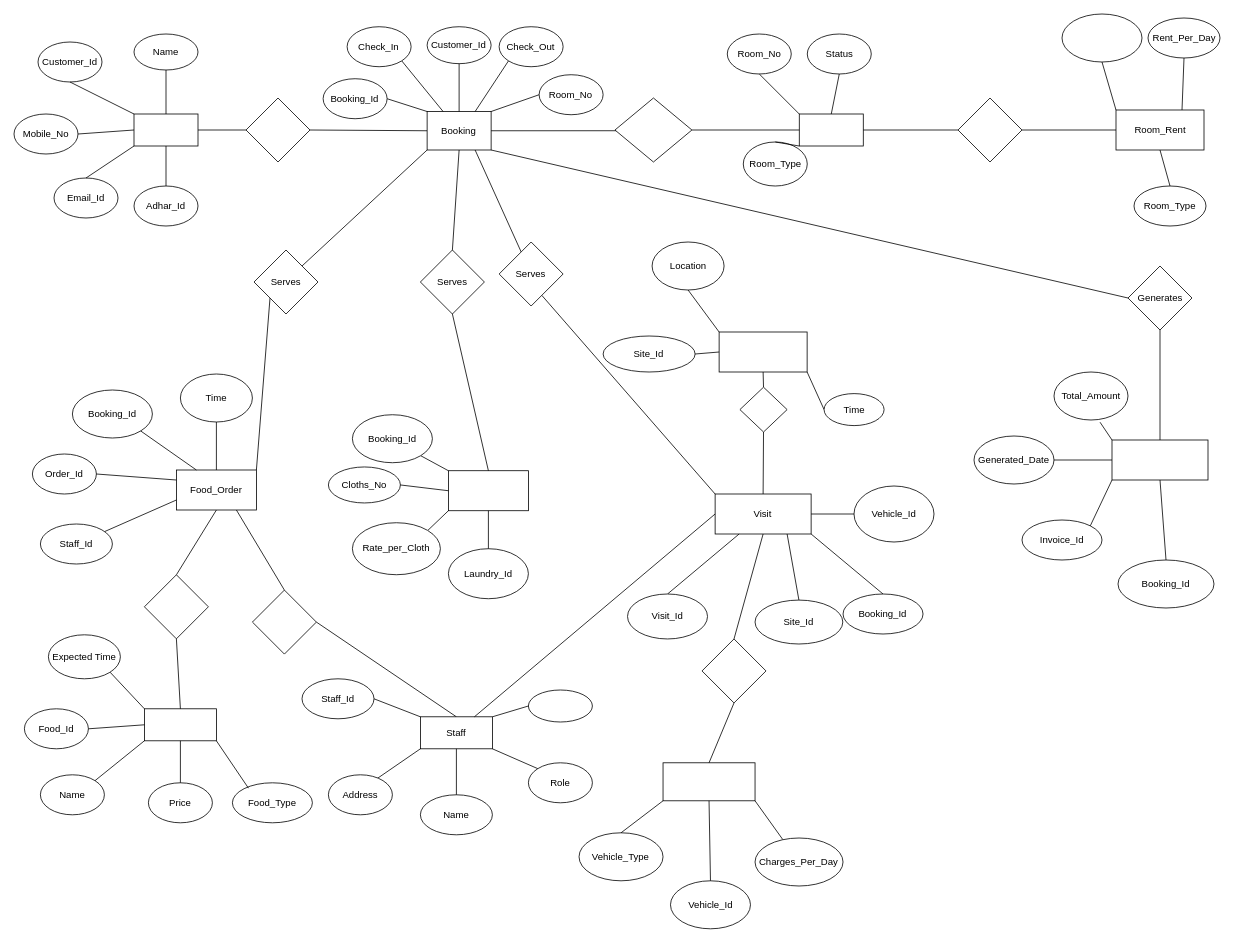
The diagram is 1234 pixels wide and 943 high, and some of its shapes have lost their labels. The centre of each missing label's shape, as x and y in pixels:
"Age" goes at (x=560, y=705).
"Allocated_To" goes at (x=653, y=129).
"Customer" goes at (x=165, y=129).
"From" goes at (x=176, y=606).
"Has" goes at (x=989, y=129).
"Invoice" goes at (x=1159, y=459).
"Laundry" goes at (x=488, y=490).
"makes" goes at (x=277, y=129).
"Menu" goes at (x=180, y=724).
"Room" goes at (x=830, y=129).
"Room_Type_Id" goes at (x=1101, y=37).
"Served_By" goes at (x=284, y=621).
"Site" goes at (x=762, y=351).
"To" goes at (x=763, y=409).
"Uses" goes at (x=733, y=670).
"Vehicle" goes at (x=708, y=781).
